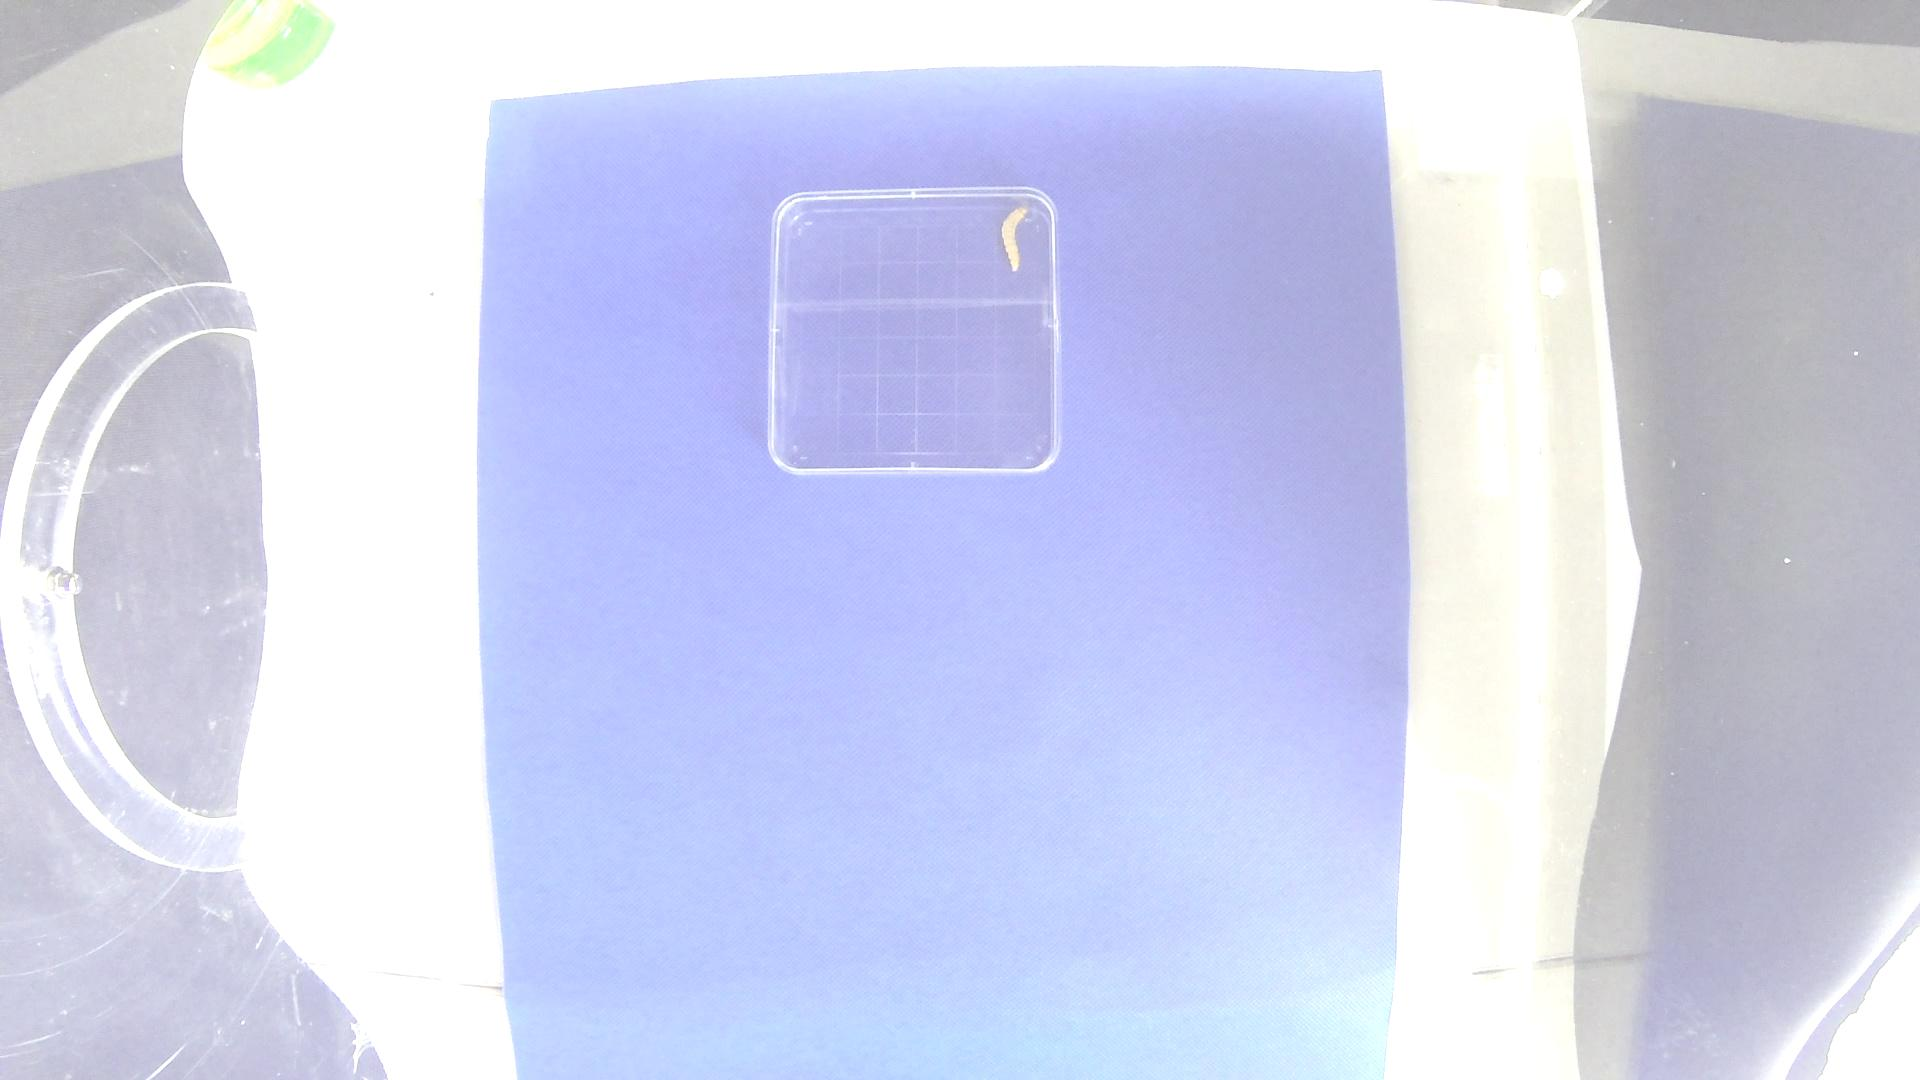larva: (992, 200, 1033, 275)
